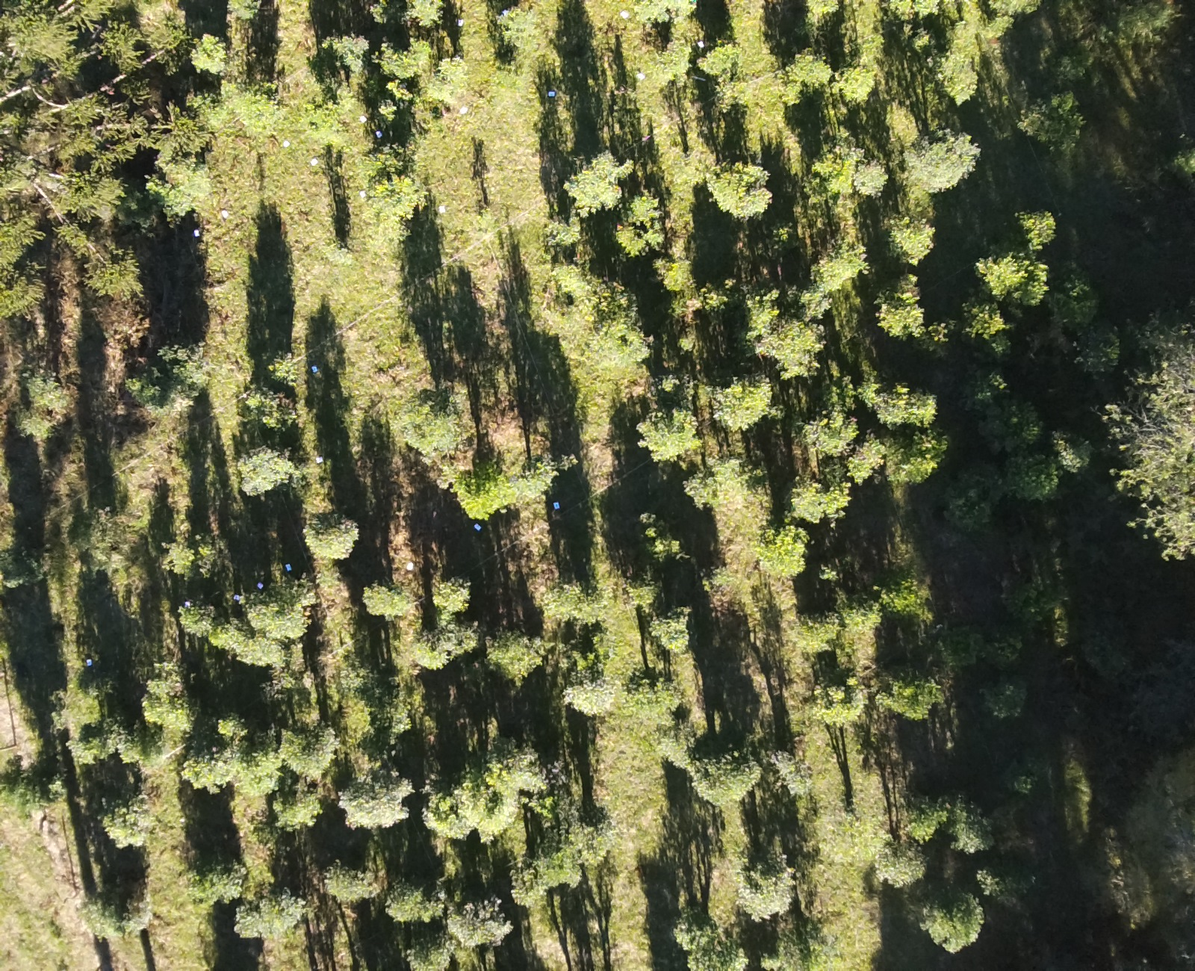erva: (760, 314, 841, 388), (335, 768, 409, 842), (861, 371, 941, 426), (874, 661, 946, 721), (233, 890, 310, 946), (229, 438, 299, 498), (738, 851, 801, 916), (710, 152, 771, 219), (925, 891, 986, 957), (746, 524, 811, 584), (693, 749, 761, 806), (633, 406, 696, 465), (885, 441, 947, 500), (627, 666, 687, 726), (566, 152, 628, 210), (577, 317, 648, 367), (497, 748, 559, 804), (276, 725, 341, 778), (548, 572, 607, 630), (131, 677, 193, 732), (451, 893, 515, 946), (811, 674, 868, 733), (825, 807, 880, 867), (319, 854, 381, 907), (544, 265, 597, 327), (684, 462, 752, 510), (389, 877, 446, 934), (187, 857, 249, 909), (97, 793, 154, 846), (300, 512, 361, 561), (412, 400, 465, 456), (486, 3, 547, 51), (772, 471, 828, 523), (401, 626, 456, 678), (842, 439, 894, 494), (715, 377, 764, 435), (842, 593, 880, 666), (887, 211, 938, 265), (415, 787, 465, 842), (973, 860, 1031, 907), (944, 804, 996, 856), (874, 840, 928, 890), (797, 406, 849, 457), (317, 30, 371, 76), (774, 748, 825, 796), (904, 790, 948, 844), (491, 627, 541, 674), (227, 635, 290, 672), (693, 935, 759, 970), (534, 837, 580, 887), (559, 672, 619, 710), (308, 231, 359, 275), (179, 751, 226, 798), (54, 680, 105, 723), (797, 274, 836, 329), (817, 248, 863, 294), (651, 41, 702, 82), (789, 603, 835, 648), (75, 890, 118, 938), (509, 457, 557, 500), (465, 192, 508, 240), (547, 205, 588, 255), (402, 930, 453, 970), (462, 765, 494, 828), (170, 598, 216, 641), (382, 38, 433, 76), (382, 170, 426, 214), (359, 574, 408, 613), (631, 0, 705, 24), (298, 103, 341, 144), (161, 534, 199, 580), (283, 568, 321, 614), (649, 604, 692, 644), (432, 65, 472, 108), (438, 572, 479, 612), (509, 852, 541, 903), (699, 43, 745, 78), (276, 793, 315, 834), (124, 879, 154, 931), (836, 65, 877, 103), (651, 728, 695, 763), (780, 46, 828, 78), (238, 582, 267, 634), (464, 480, 502, 519), (615, 226, 649, 266), (100, 722, 141, 754), (341, 702, 376, 739), (402, 0, 454, 24), (273, 612, 316, 639), (627, 189, 662, 222), (853, 161, 884, 198), (261, 348, 299, 378), (214, 706, 243, 745), (201, 623, 236, 655), (368, 99, 400, 132), (376, 78, 412, 106), (673, 907, 704, 939), (640, 228, 668, 246)
